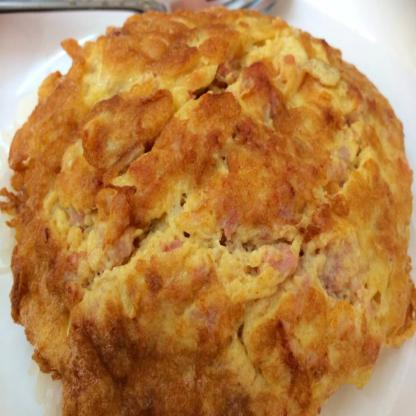Omelette: (1, 3, 415, 416)
